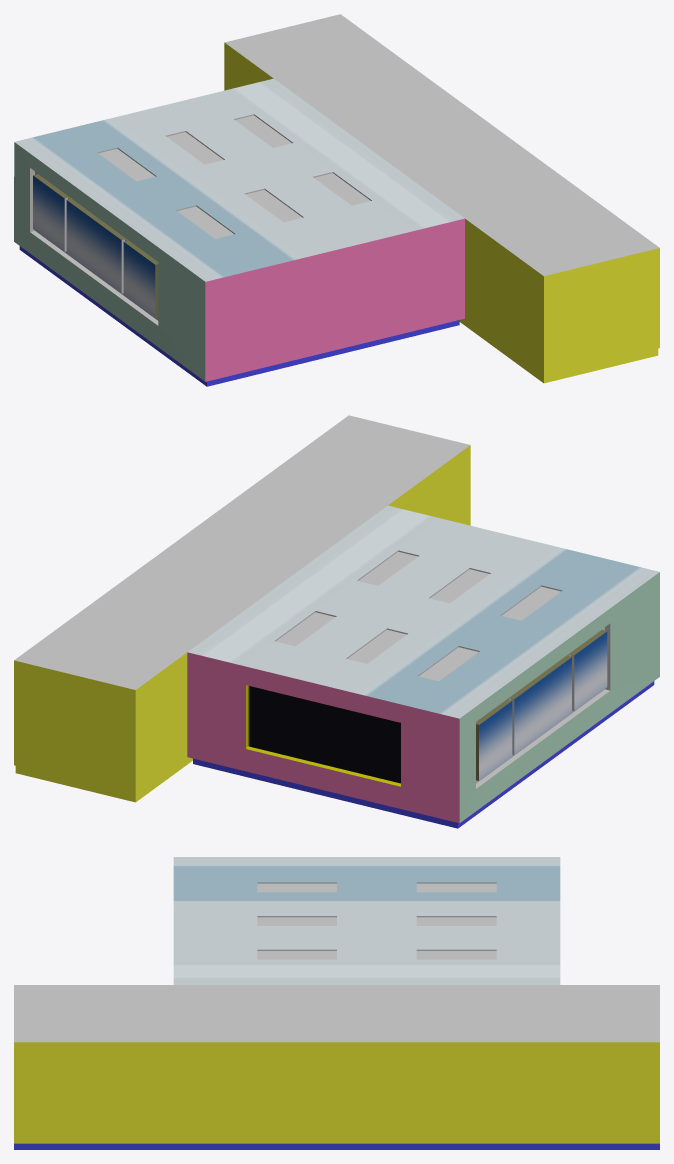
File: ENVI_Classroom.obj
3 renders of one model, top to bottom at view 1: azimuth 30°, elevation 25°; view 2: azimuth 150°, elevation 25°; view 3: azimuth 270°, elevation 25°, orthographic. The views are drawn at different scales.
Parts seen in each view (by area): view 1: ENVI_Classroom; view 2: ENVI_Classroom; view 3: ENVI_Classroom.
Part boxes in pixels (x1,y1,x2,y2): ENVI_Classroom: [14, 14, 659, 386]; ENVI_Classroom: [14, 415, 659, 828]; ENVI_Classroom: [14, 857, 659, 1149].
Bounding box in the file's own units: 11.01 × 3 × 16.2.
23 materials, 8 textured.
